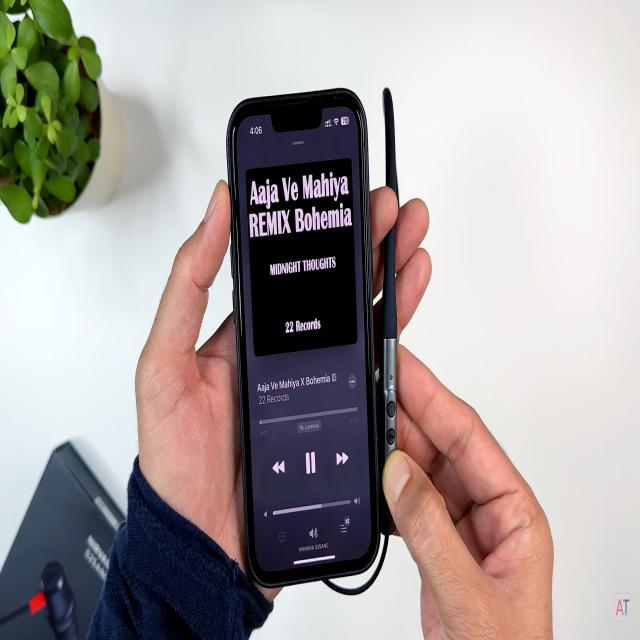Neckband: (324, 85, 401, 597)
